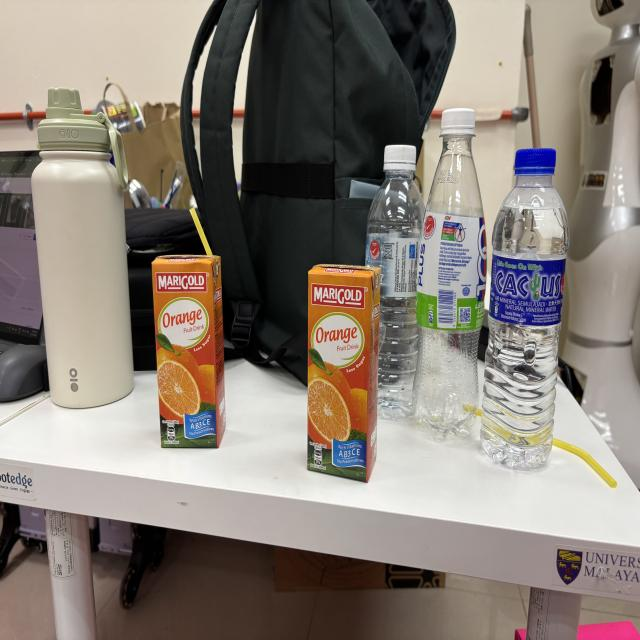drink_carton: (147, 202, 229, 452), (302, 257, 389, 488)
plastic_bottle: (476, 142, 570, 480), (407, 99, 496, 454), (362, 139, 429, 432)
